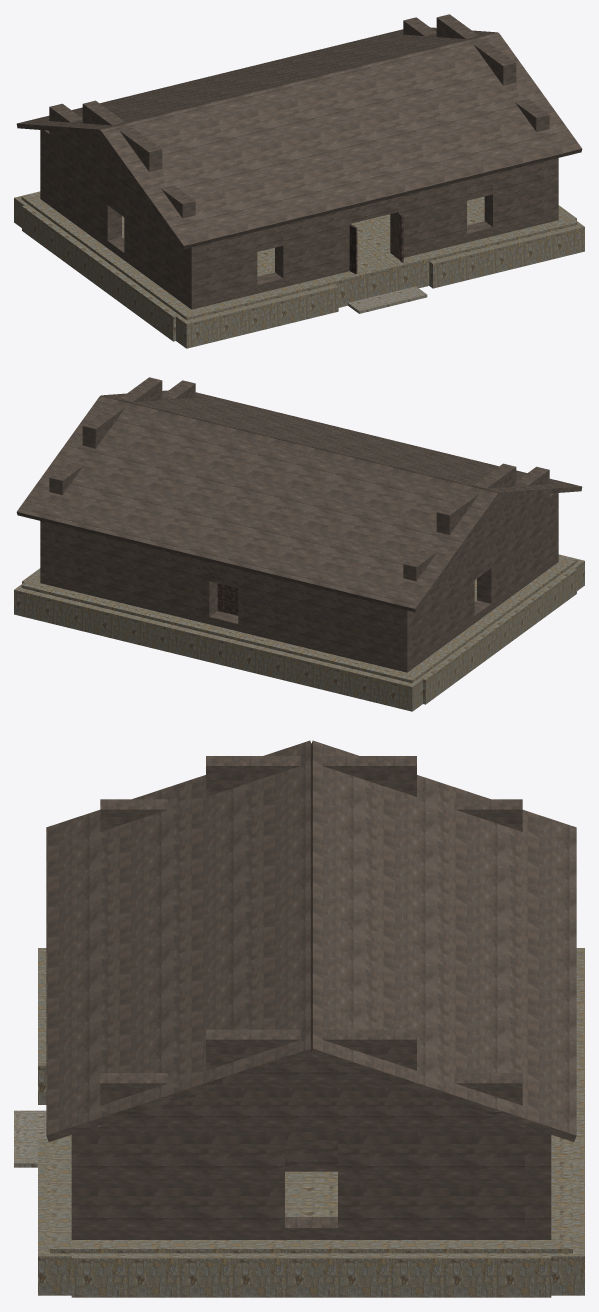
The model's file is prop_hk_trainer_ranger.glb.
3 views of the same model, one above another, from view 1: azimuth 30°, elevation 25°; view 2: azimuth 150°, elevation 25°; view 3: azimuth 270°, elevation 25° (orthographic). The views are drawn at different scales.
Visible parts, largest first — view 1: building_hk_trainer_ranger; view 2: building_hk_trainer_ranger; view 3: building_hk_trainer_ranger.
Part boxes in pixels (left/top/right/bottom): building_hk_trainer_ranger: left=14, top=14, right=584, bottom=348; building_hk_trainer_ranger: left=14, top=377, right=584, bottom=711; building_hk_trainer_ranger: left=14, top=740, right=584, bottom=1297.
Size of the model in its own units: 15.4 by 5.68 by 11.9.
Materials: 5 (5 with a texture image).
